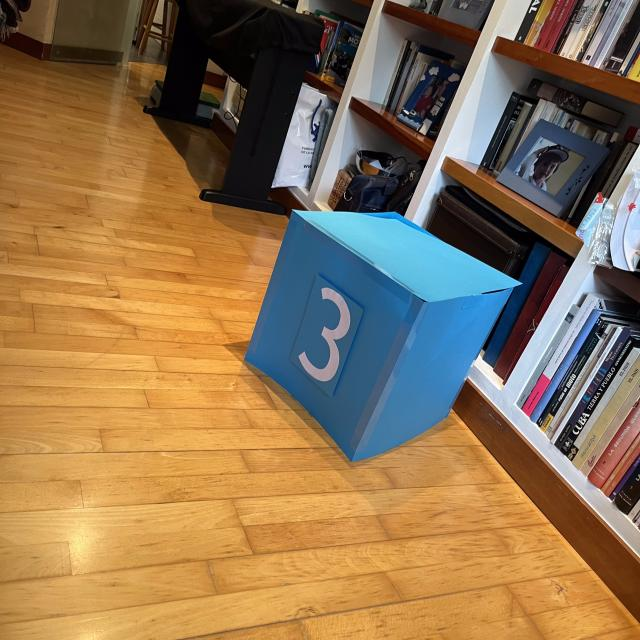box: (241, 204, 522, 463)
